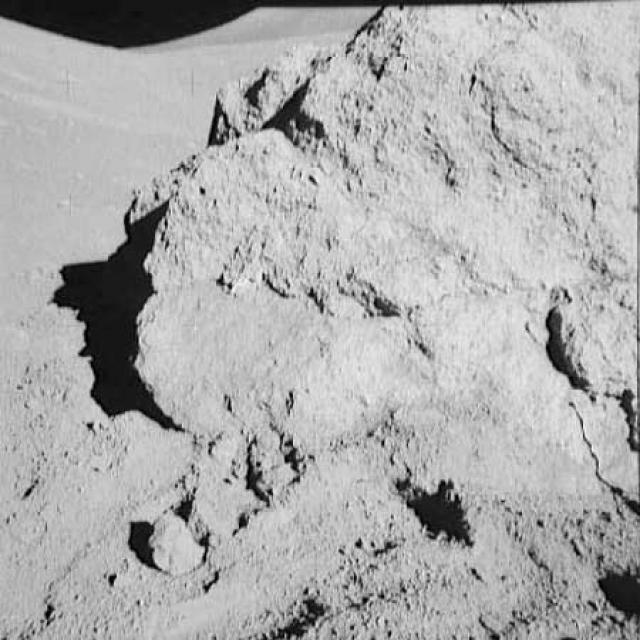rock: (118, 0, 639, 578)
